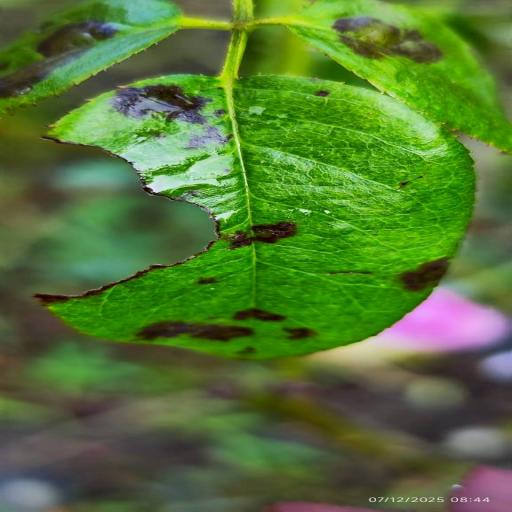black_spot: (40, 28, 472, 359), (281, 0, 511, 152), (1, 0, 180, 113)
